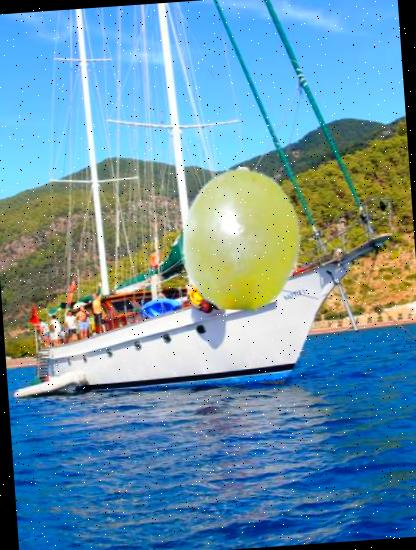Grape: (166, 162, 318, 314)
